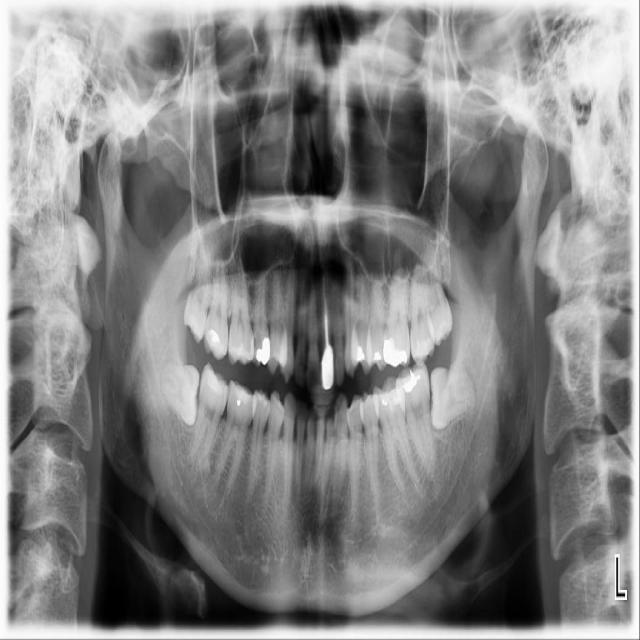3M ESPE Implant: (180, 242, 219, 345)
52: (369, 375, 408, 422), (396, 360, 430, 410), (226, 379, 258, 426), (382, 322, 411, 369), (203, 314, 229, 361), (350, 327, 373, 376), (366, 325, 388, 371), (250, 327, 270, 368), (320, 345, 335, 390)
73: (320, 271, 333, 357), (613, 559, 617, 567)
BioHorizons Implant: (396, 248, 440, 369)
BioLife Implant: (412, 243, 458, 348)
Caries: (204, 252, 229, 360)
Implant: (188, 361, 233, 472), (393, 358, 436, 472)
Keystone Dental Implant: (430, 367, 477, 430), (159, 360, 201, 427)
